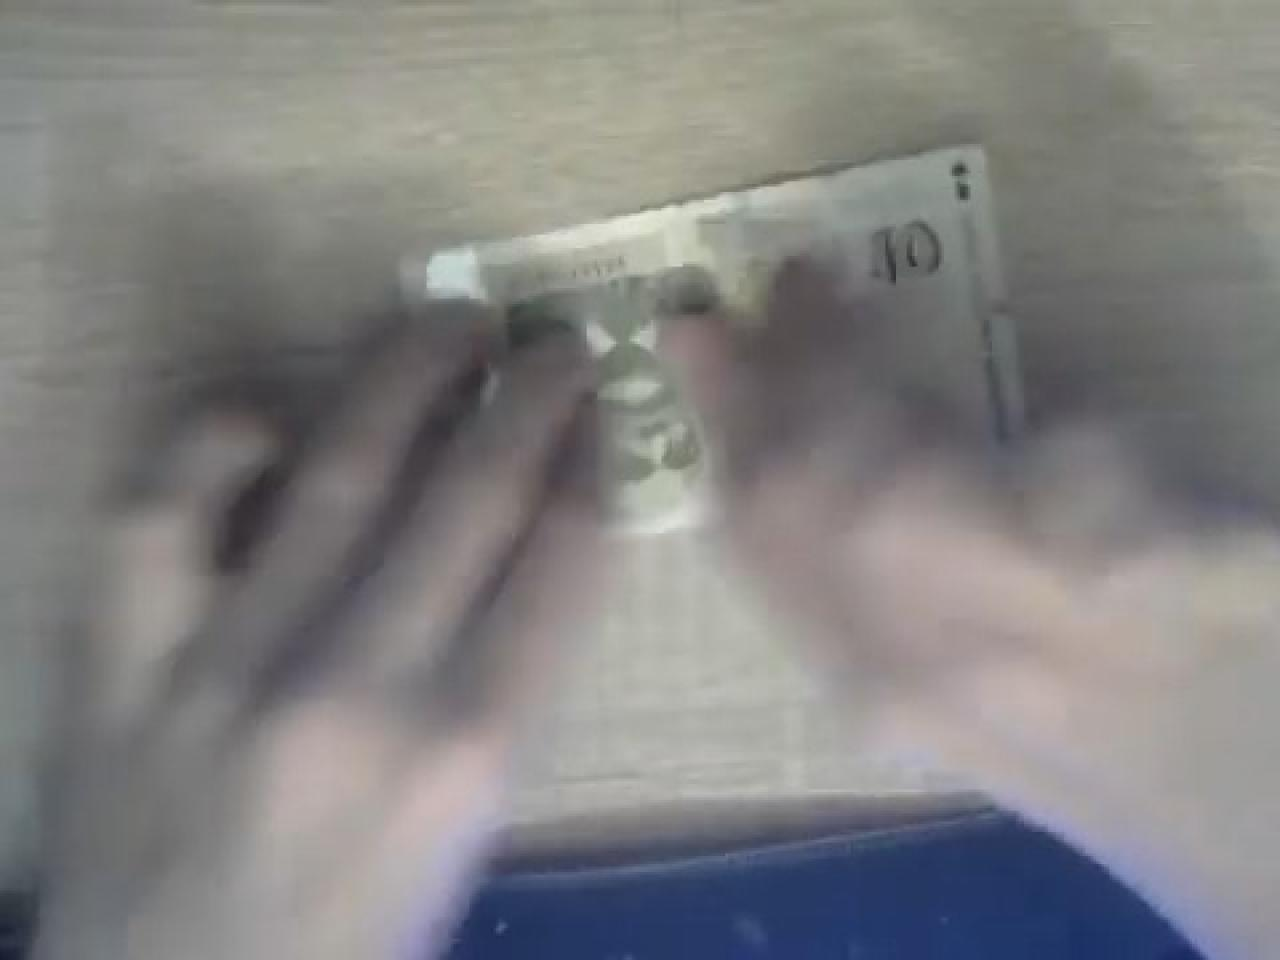10leva: (408, 139, 1029, 545)
